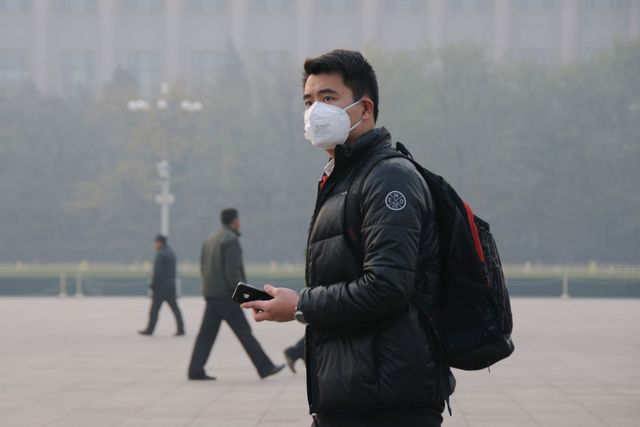mask: (304, 109, 346, 151)
